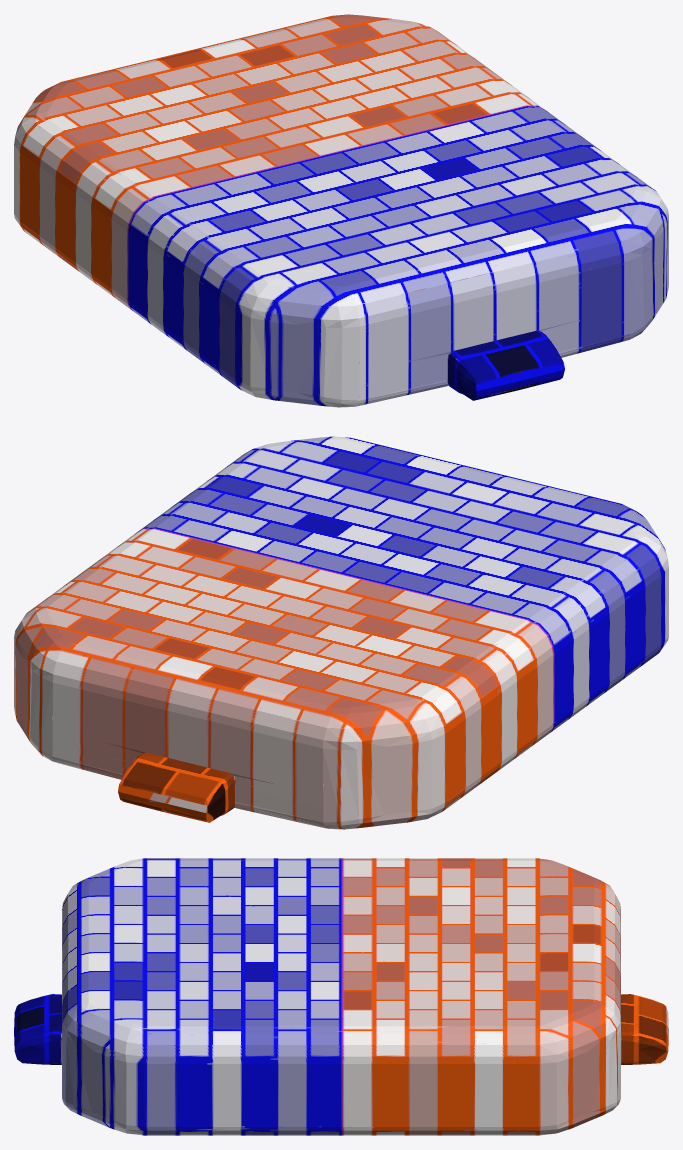
Rendered from stadium_optim.glb.
The picture shows the model from 3 angles, top to bottom: view 1: azimuth 30°, elevation 25°; view 2: azimuth 150°, elevation 25°; view 3: azimuth 270°, elevation 25°; orthographic projection. The views are drawn at different scales.
Parts seen in each view (by area): view 1: smol_stadium_optim; view 2: smol_stadium_optim; view 3: smol_stadium_optim.
Boxes of the visible parts, <box> form: smol_stadium_optim: <box>14,14,668,407</box>; smol_stadium_optim: <box>14,436,668,829</box>; smol_stadium_optim: <box>14,858,668,1135</box>.
Bounding box in the file's own units: 165 × 41.74 × 241.
1 material, 1 textured.
